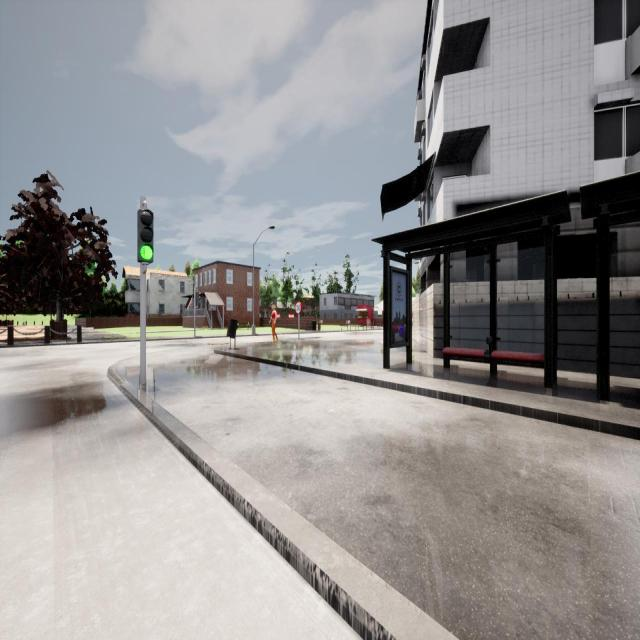Pedestrian: (269, 304, 278, 342)
Traffic_Signs: (294, 302, 302, 314)
traffic_light: (137, 210, 153, 263), (196, 291, 201, 305)
